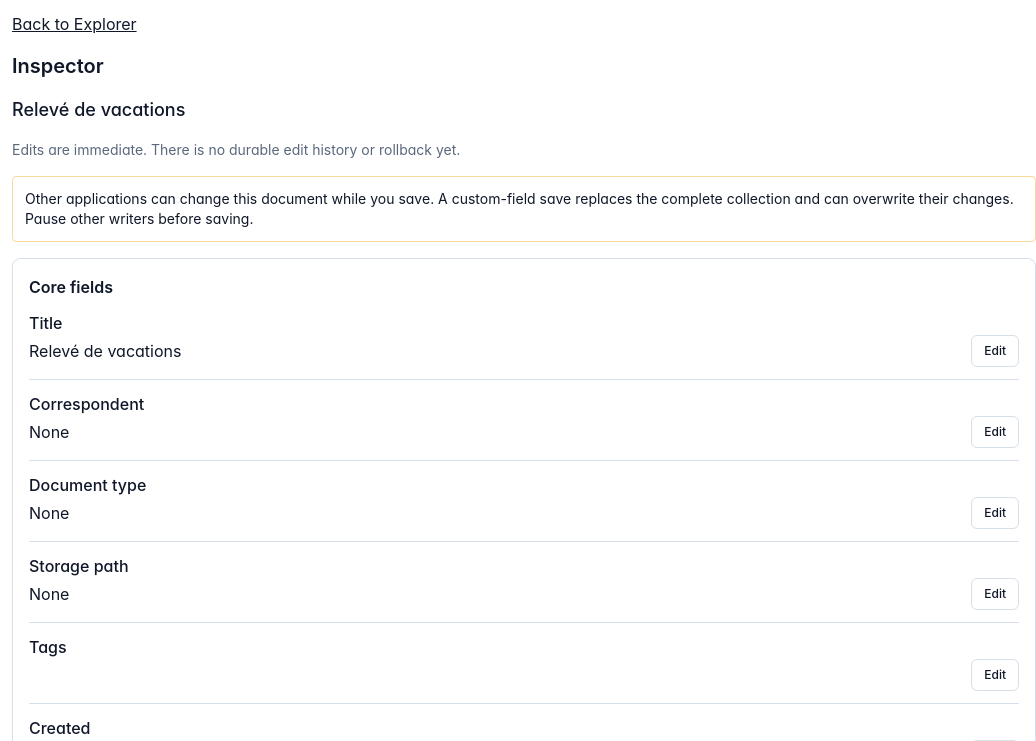
Inspector › shows metadata and cancels without a write
Expected: the heading "Relevé de vacations" is shown, [12, 99, 185, 120]
Click the button with aria-label "Edit Title".
click(995, 351)  # box [971, 335, 1019, 367]
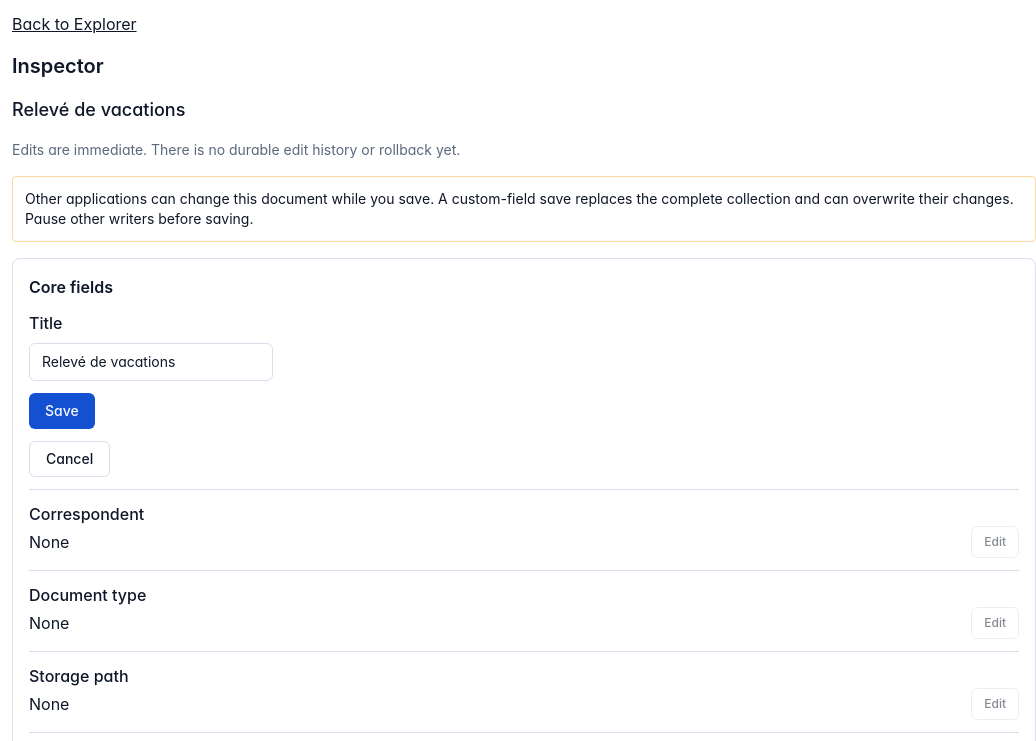
Type " discarded" into the field named "Title".
click(151, 362); type(" discarded")  # box [29, 343, 273, 381]
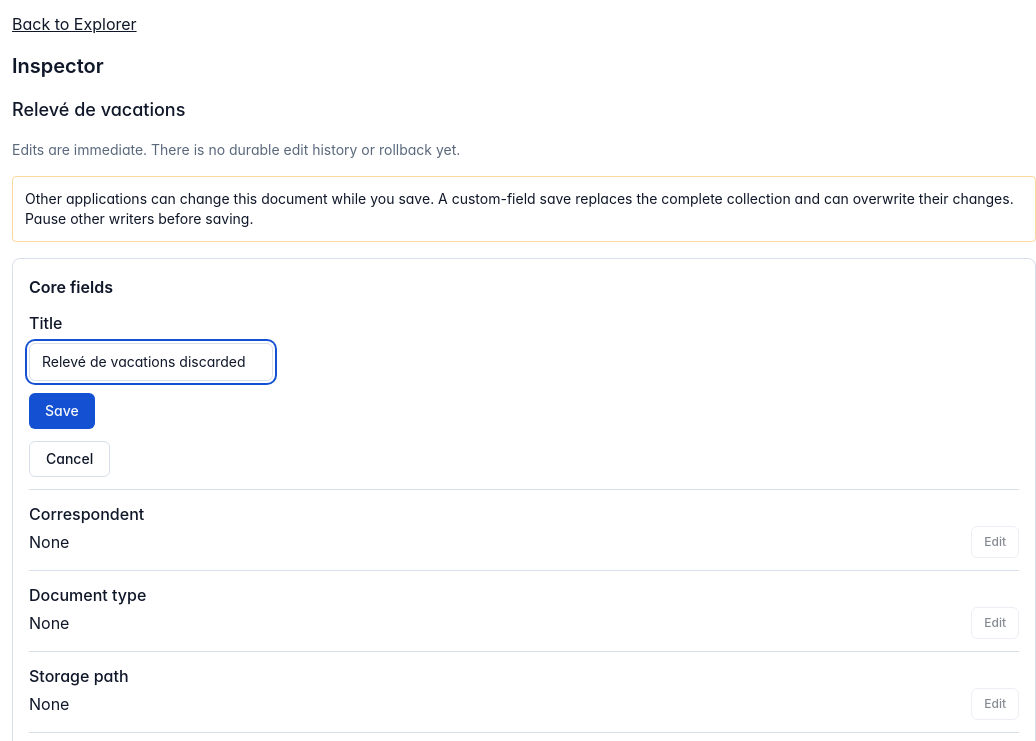
Click the button "Cancel".
click(70, 459)  # box [29, 441, 110, 477]
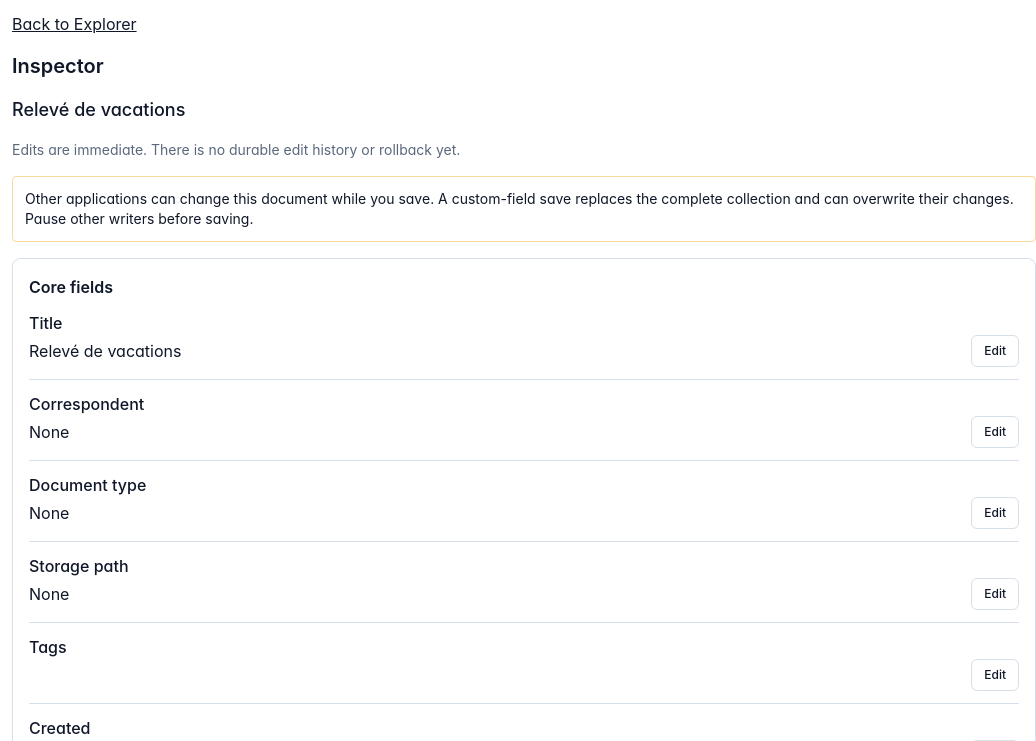
Result: the field is gone
